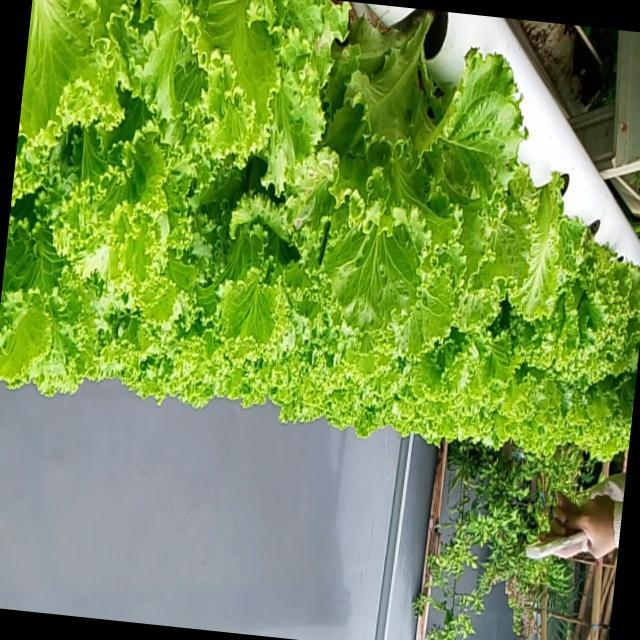Mature: (0, 0, 640, 453), (293, 25, 494, 320), (492, 191, 640, 409)
